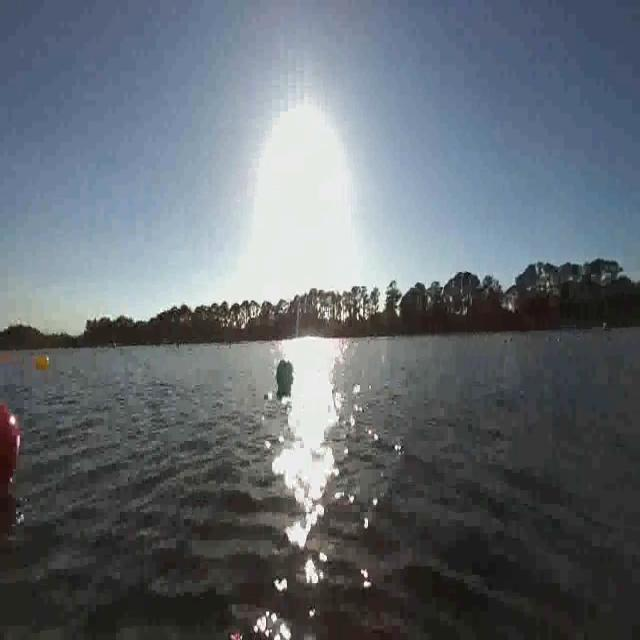green-buoy: (276, 357, 294, 391)
red-buoy: (0, 401, 24, 499)
yellow-buoy: (36, 354, 50, 371)
